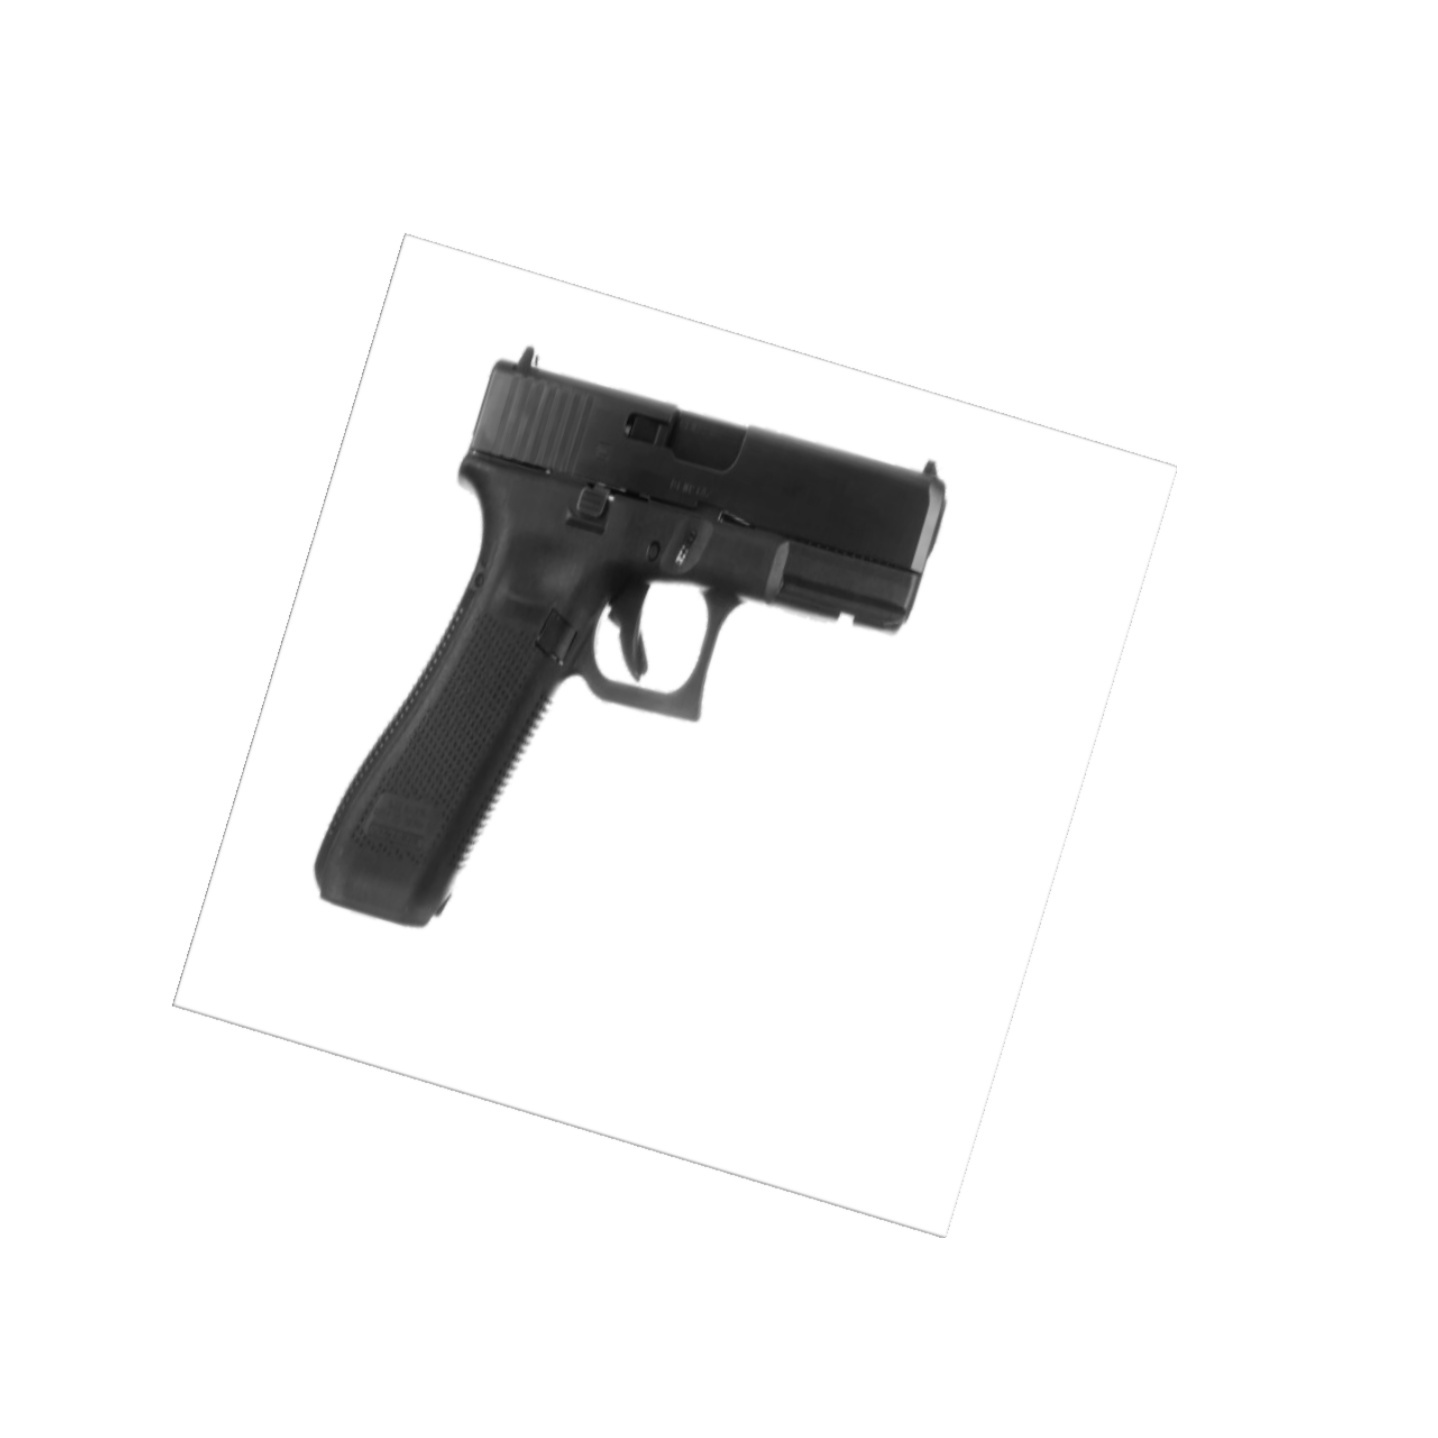gun: (302, 332, 953, 951)
